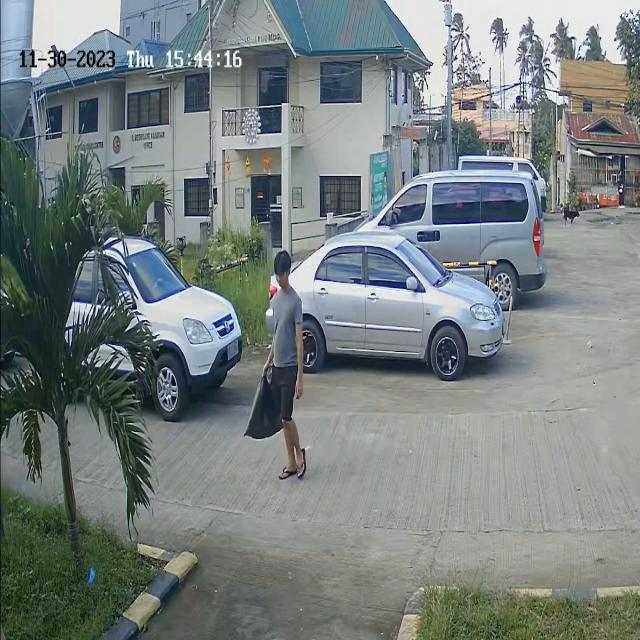garbage: (243, 364, 286, 444)
person: (264, 252, 307, 363)
